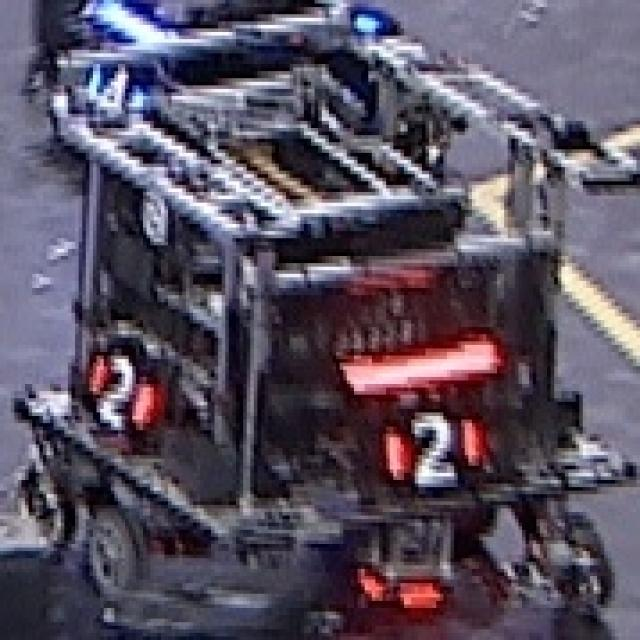R2: (382, 409, 482, 491), (82, 348, 164, 438)
